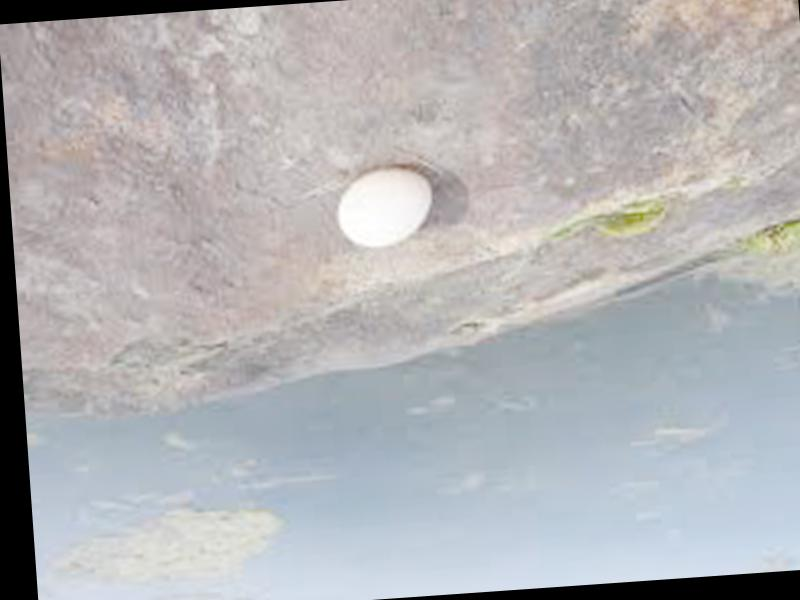Eggs: (330, 167, 434, 251)
